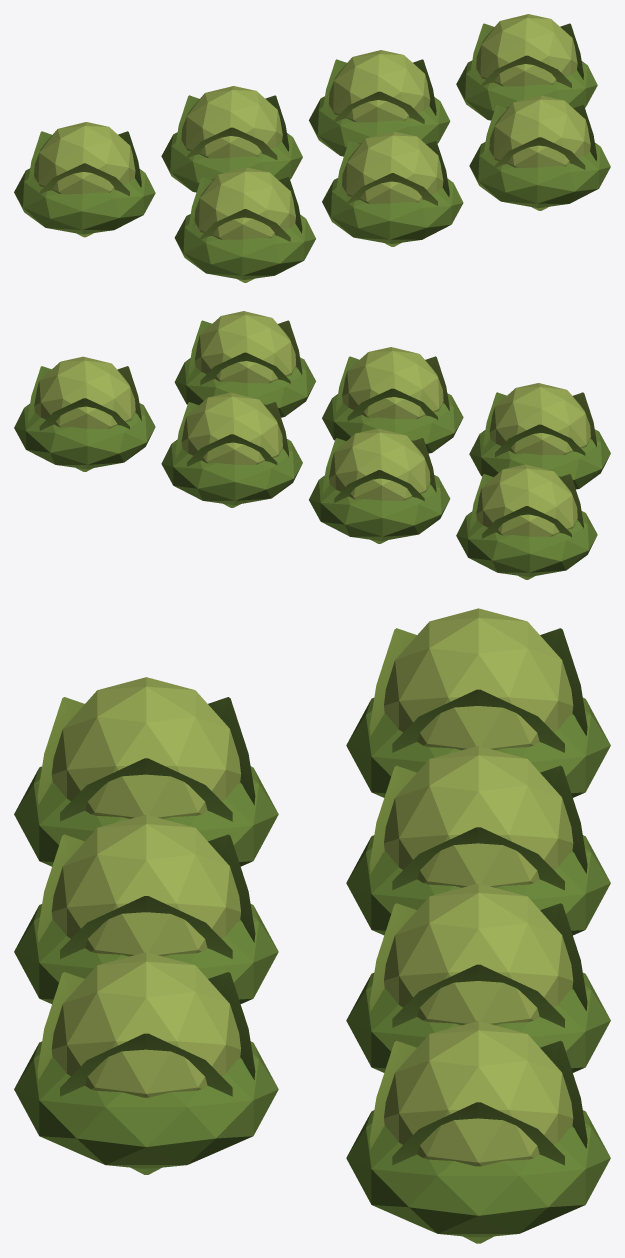
Rendered from pile-lettuce-7.gltf.
The picture shows the model from 3 angles, top to bottom: view 1: azimuth 30°, elevation 25°; view 2: azimuth 150°, elevation 25°; view 3: azimuth 270°, elevation 25°; orthographic projection. The views are drawn at different scales.
Parts seen in each view (by area): view 1: pile-lettuce-7; view 2: pile-lettuce-7; view 3: pile-lettuce-7.
Boxes of the visible parts, x1,y1,x2,y2 form: pile-lettuce-7: [14, 14, 610, 282]; pile-lettuce-7: [14, 311, 610, 579]; pile-lettuce-7: [14, 608, 610, 1243].
Size of the model in its own units: 0.9216 by 0.1512 by 0.4403.
